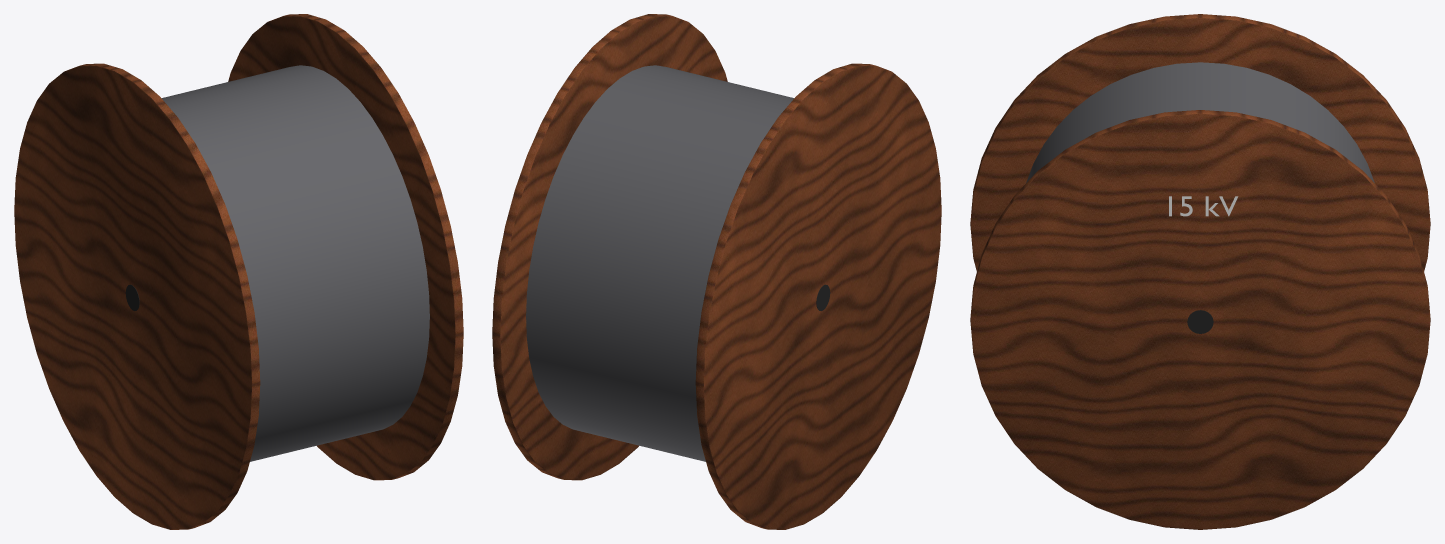
Rendered from ELE-FIO-009.glb.
The picture shows the model from 3 angles, left to right: view 1: azimuth 30°, elevation 25°; view 2: azimuth 150°, elevation 25°; view 3: azimuth 270°, elevation 25°; orthographic projection. The views are drawn at different scales.
Parts seen in each view (by area): view 1: ELE-FIO-009_flange-1, ELE-FIO-009_cabo, ELE-FIO-009_flange1; view 2: ELE-FIO-009_flange-1, ELE-FIO-009_cabo, ELE-FIO-009_flange1; view 3: ELE-FIO-009_flange1, ELE-FIO-009_flange-1, ELE-FIO-009_cabo.
Part boxes in pixels (x1,y1,x2,y2): ELE-FIO-009_flange-1: (14,63,260,529); ELE-FIO-009_cabo: (161,65,429,461); ELE-FIO-009_flange1: (228,14,463,480); ELE-FIO-009_flange-1: (695,63,941,529); ELE-FIO-009_cabo: (526,65,794,461); ELE-FIO-009_flange1: (492,14,727,480); ELE-FIO-009_flange1: (970,110,1430,529); ELE-FIO-009_flange-1: (970,14,1430,271); ELE-FIO-009_cabo: (1026,62,1374,182).
Size of the model in its own units: 0.722 by 1.4 by 1.4.
Materials: 4 (1 with a texture image).
